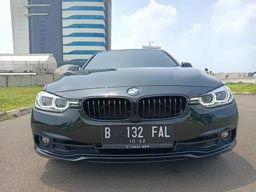plat: (102, 124, 172, 138)
